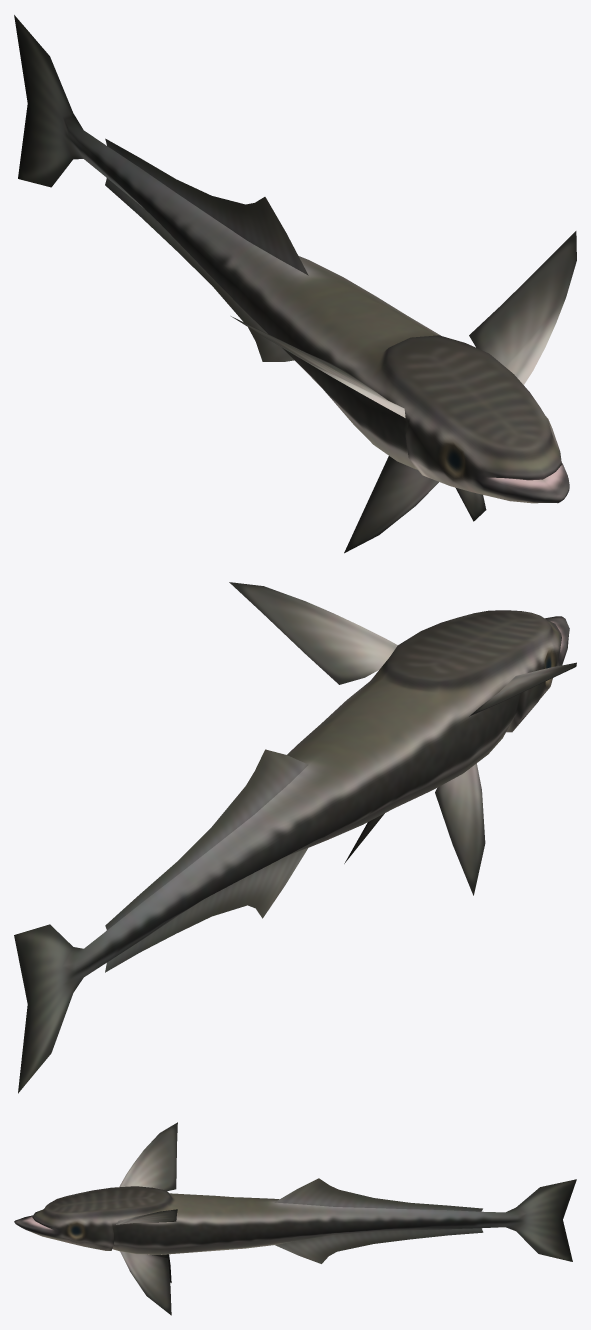
The model's file is suckerfish.glb.
3 renders of one model, top to bottom at view 1: azimuth 30°, elevation 25°; view 2: azimuth 150°, elevation 25°; view 3: azimuth 270°, elevation 25°, orthographic. The views are drawn at different scales.
Parts seen in each view (by area): view 1: FishKobanzame__mKobanzame; view 2: FishKobanzame__mKobanzame; view 3: FishKobanzame__mKobanzame.
Part boxes in pixels (left/top/right/bottom): FishKobanzame__mKobanzame: left=14, top=15, right=576, bottom=553; FishKobanzame__mKobanzame: left=14, top=582, right=576, bottom=1093; FishKobanzame__mKobanzame: left=14, top=1122, right=576, bottom=1315.
Size of the model in its own units: 3.97 by 2.84 by 10.84.
Materials: 1 (1 with a texture image).
